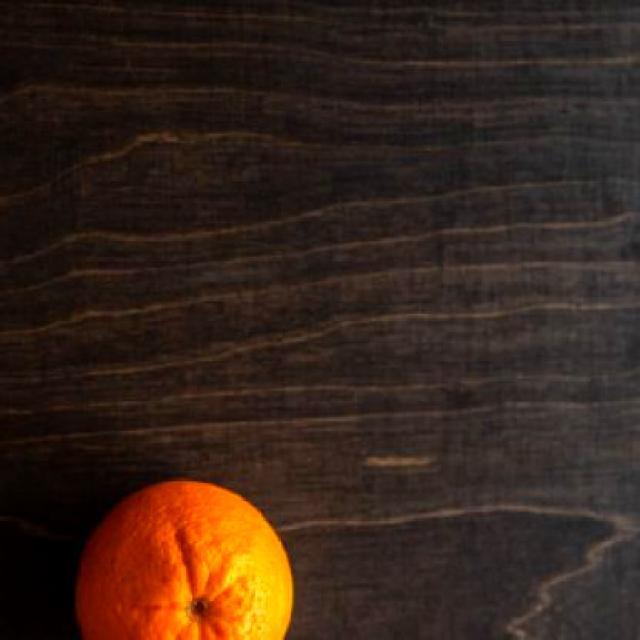Jeruk Sudah Matang: (69, 476, 302, 638)
